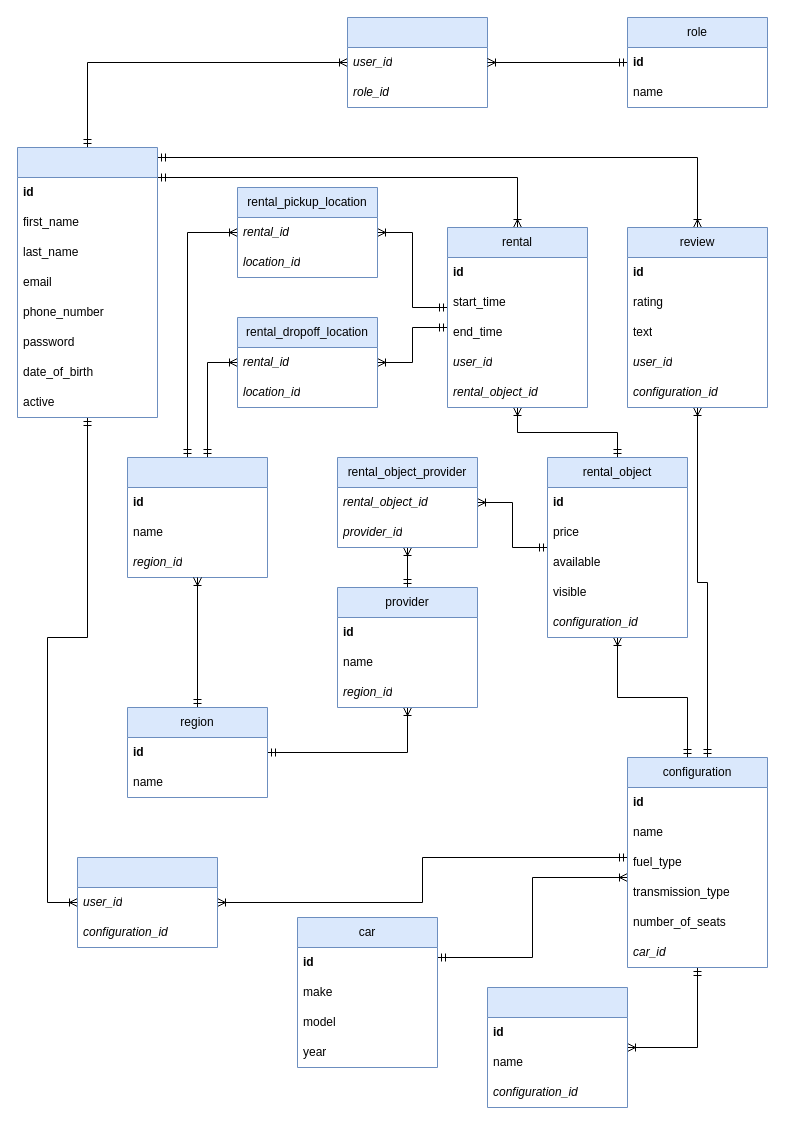
Image size: 785x1125. Some labels were removed from this diagram. The shapes that lost their labels are listed below. From the top down, each one's box as (x1, y1, x2, y2) in pixels, then its label:
(346, 16, 488, 108): user_role
(16, 146, 158, 418): user
(126, 456, 268, 578): location
(76, 856, 218, 948): favorite
(486, 986, 628, 1108): extra_feature
